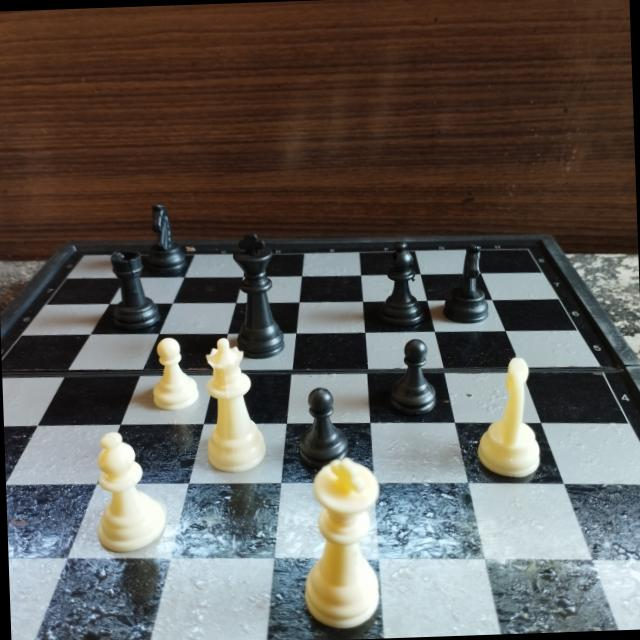Black Bishop: (378, 237, 426, 331)
Black King: (224, 228, 286, 358)
Black Knight: (437, 241, 493, 330), (140, 201, 184, 276)
Black Pawn: (292, 380, 349, 470), (385, 337, 438, 418)
Black Rook: (100, 246, 162, 336)
White Bishop: (90, 429, 170, 554)
White King: (300, 452, 387, 638)
White Knight: (474, 353, 544, 485)
White Pawn: (151, 331, 200, 416)
White Queen: (198, 330, 268, 480)
